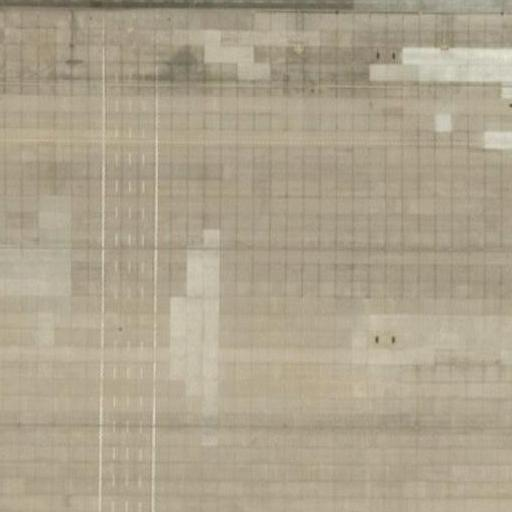Aircraft: (509, 30, 512, 163)
